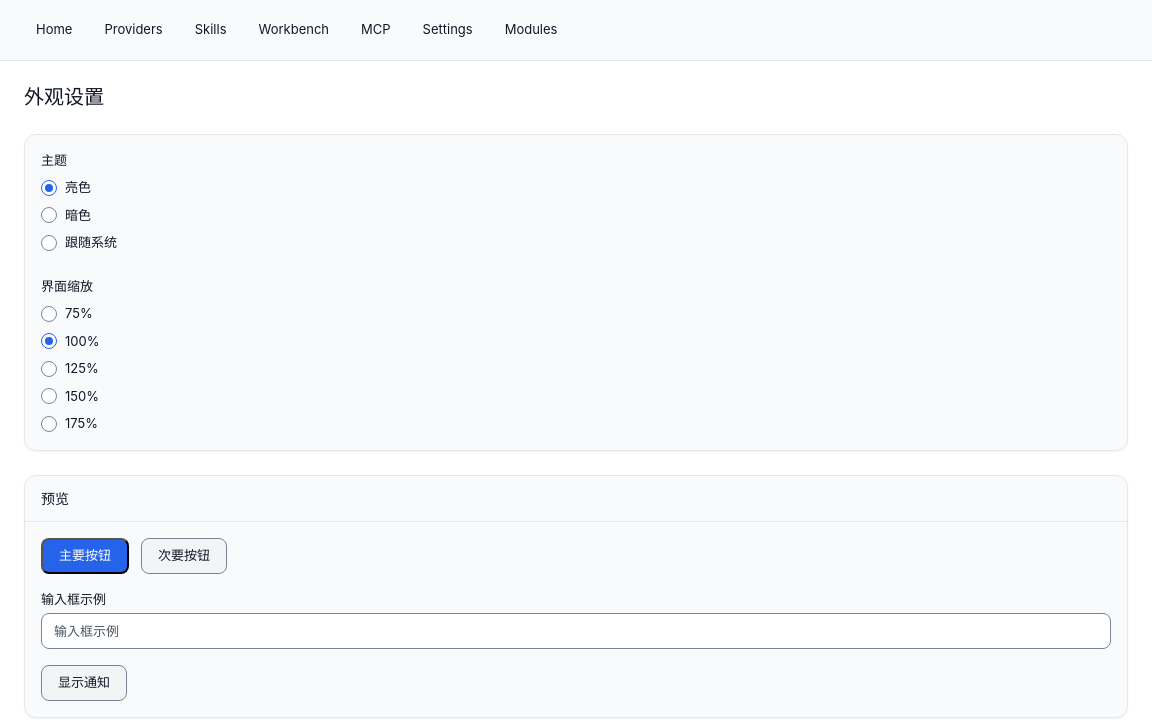
it: preview › shows an example Toast from the preview button
The image size is (1152, 720).
Expected: the heading "外观设置" is shown, [24,84,104,108]
Step 1. Click the button "显示通知" → (84, 683), box [41,665,127,701]
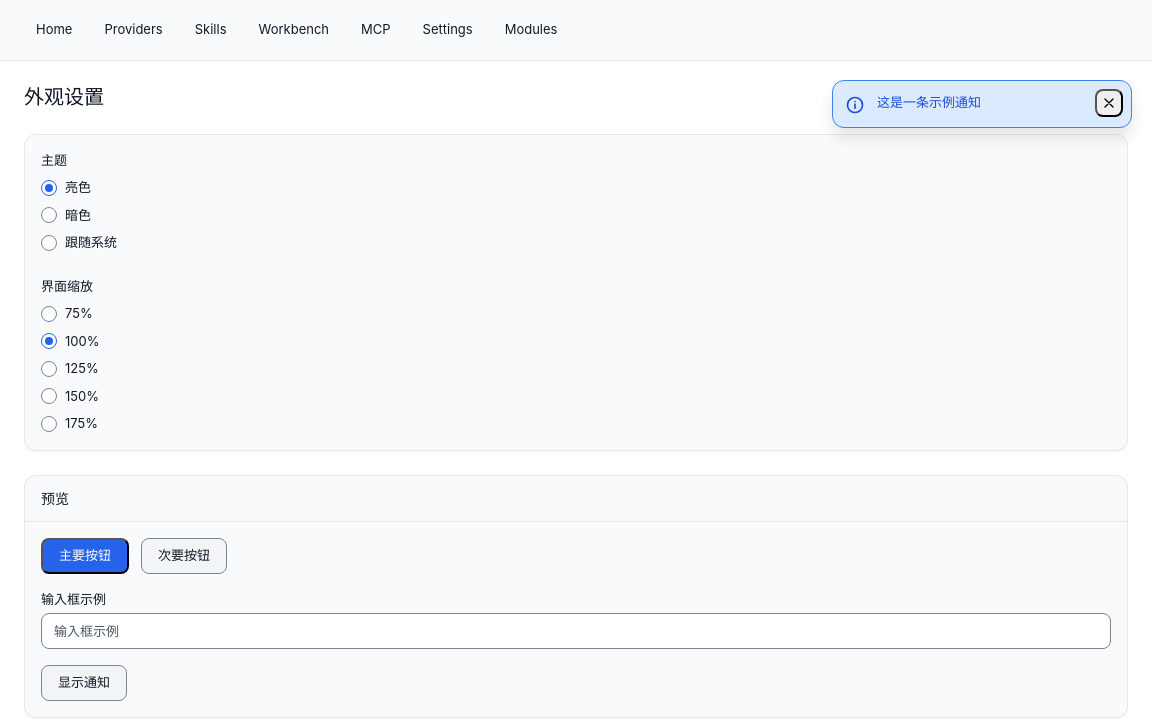
Expected: the text "这是一条示例通知" is shown, [877,94,981,110]
